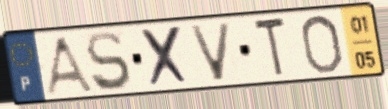A: (42, 34, 97, 97)
O: (298, 13, 346, 76)
S: (84, 29, 134, 94)
T: (251, 14, 289, 81)
V: (186, 21, 235, 84)
X: (138, 24, 193, 90)
